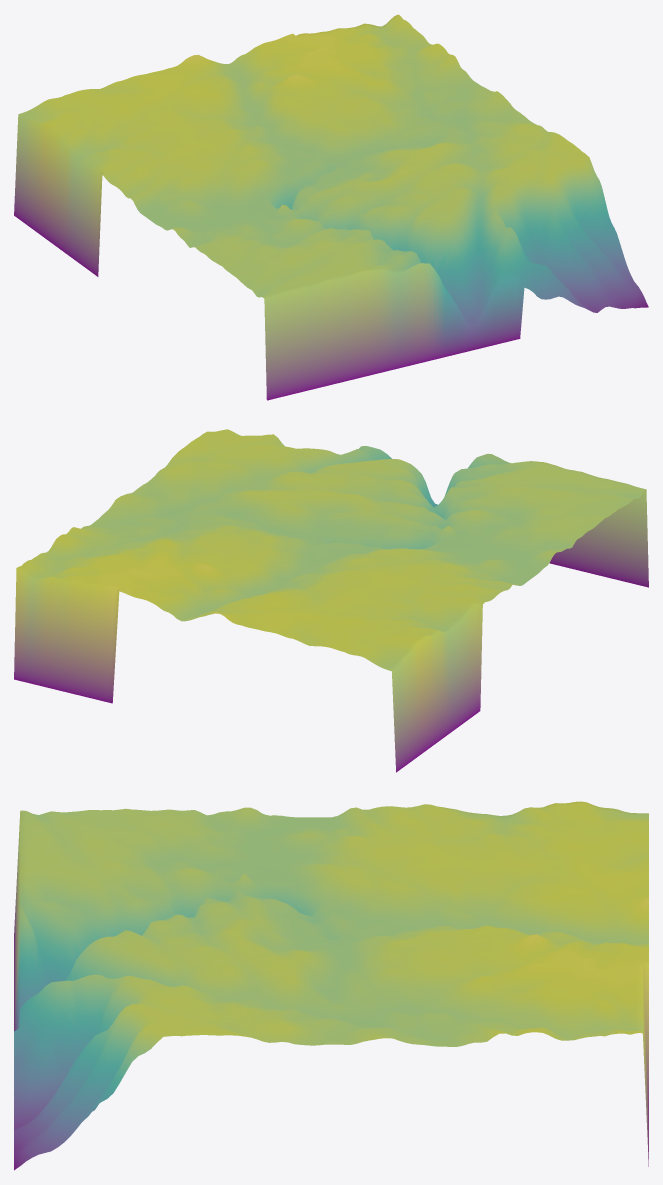
The model's file is itaimbezinho_colorido.glb.
3 renders of one model, top to bottom at view 1: azimuth 30°, elevation 25°; view 2: azimuth 150°, elevation 25°; view 3: azimuth 270°, elevation 25°, orthographic. The views are drawn at different scales.
Bounding box in the file's own units: 0.8725 × 0.2542 × 1.
